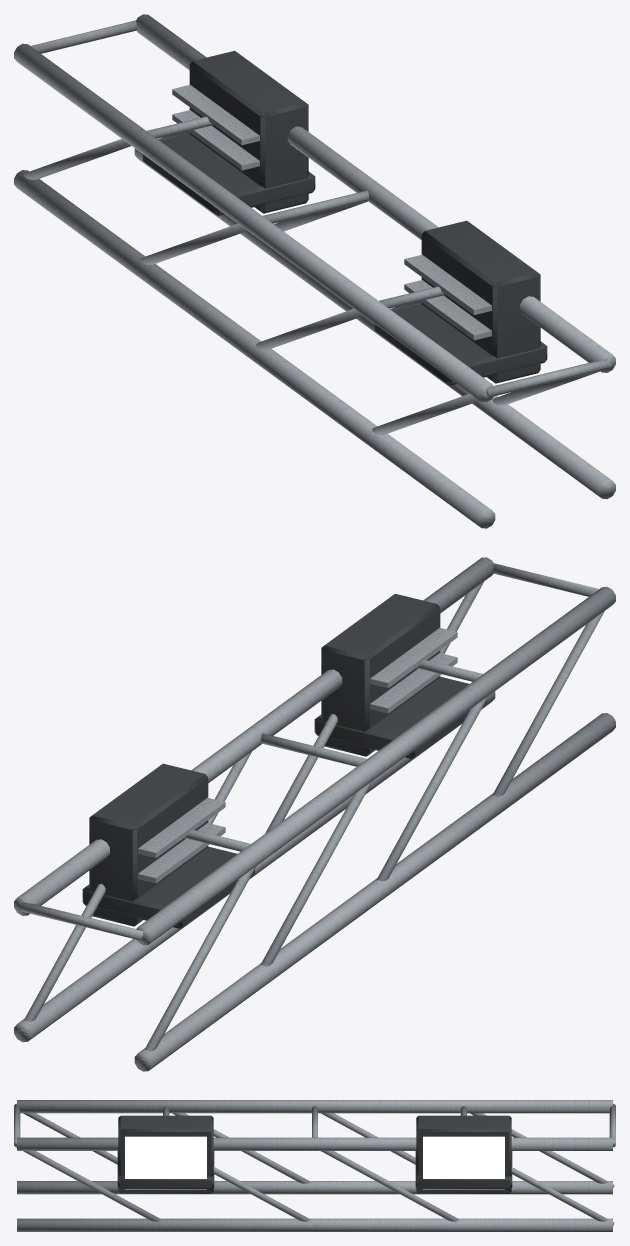
The model's file is lighting-truss_high.glb.
3 views of the same model, one above another, from view 1: azimuth 30°, elevation 25°; view 2: azimuth 150°, elevation 25°; view 3: azimuth 270°, elevation 25° (orthographic). The views are drawn at different scales.
Parts seen in each view (by area): view 1: galvanised, dark-steel; view 2: galvanised, dark-steel; view 3: galvanised, dark-steel, floodlight-emitter.
Part boxes in pixels (<box>): galvanised: <box>14,14,615,528</box>; dark-steel: <box>143,50,547,385</box>; galvanised: <box>14,557,615,1071</box>; dark-steel: <box>82,593,486,928</box>; galvanised: <box>14,1100,615,1231</box>; dark-steel: <box>117,1115,512,1193</box>; floodlight-emitter: <box>125,1136,504,1189</box>.
Size of the model in its own units: 0.7428 by 0.7849 by 4.04.
3 materials, 2 textured.
